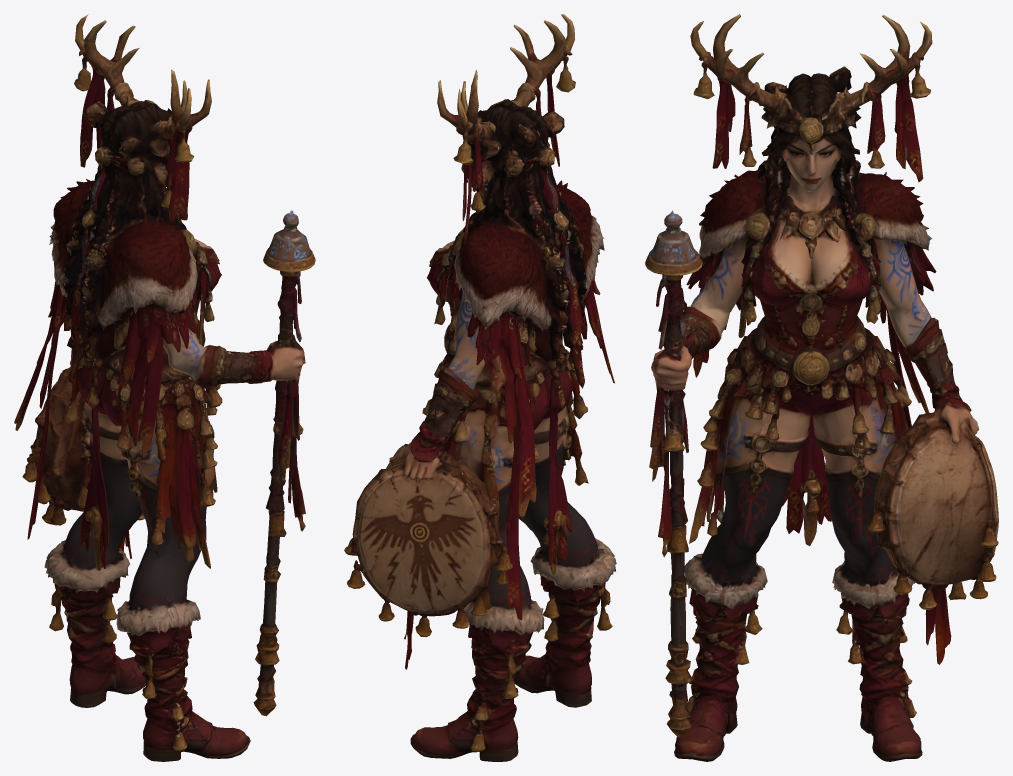
File: drum_T4-tripo.glb
The picture shows the model from 3 angles, left to right: view 1: azimuth 30°, elevation 25°; view 2: azimuth 150°, elevation 25°; view 3: azimuth 270°, elevation 25°; orthographic projection. The views are drawn at different scales.
Parts seen in each view (by area): view 1: tripo_node_4a1a44d3-3915-4dab-ad8f-26032c84ecac; view 2: tripo_node_4a1a44d3-3915-4dab-ad8f-26032c84ecac; view 3: tripo_node_4a1a44d3-3915-4dab-ad8f-26032c84ecac.
Part boxes in pixels (<box>): tripo_node_4a1a44d3-3915-4dab-ad8f-26032c84ecac: <box>14,14,315,761</box>; tripo_node_4a1a44d3-3915-4dab-ad8f-26032c84ecac: <box>344,14,616,761</box>; tripo_node_4a1a44d3-3915-4dab-ad8f-26032c84ecac: <box>645,14,998,761</box>.
Bounding box in the file's own units: 0.284 × 1 × 0.4415.
Materials: 1 (1 with a texture image).
